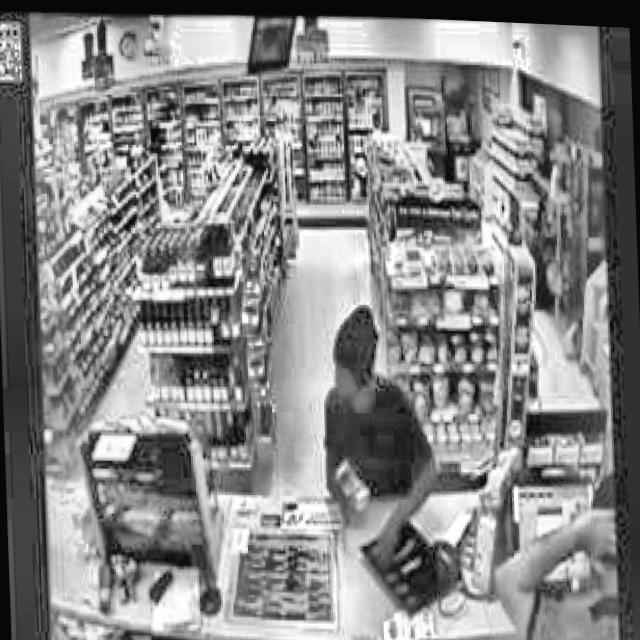robbery: (315, 297, 442, 572), (488, 459, 620, 640)
